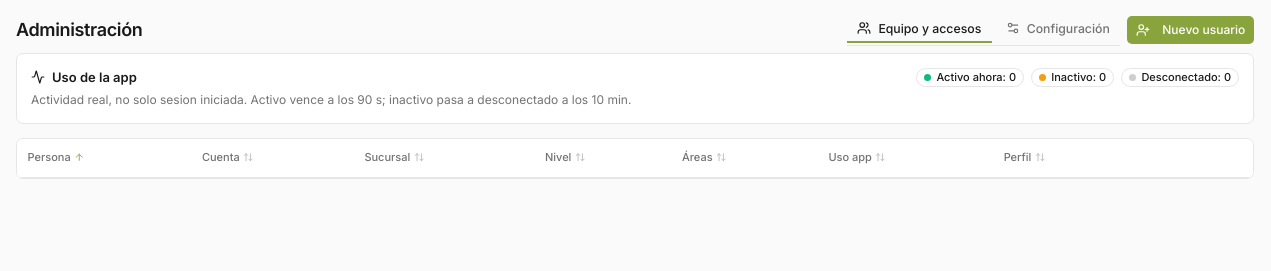
Scenario: Administración: alta de operativos sin acceso › does not fabricate a saved goal when it cannot be read, and supports retry
The image size is (1271, 271).
Press the mouse on the tab "Configuración" at (1058,29), box [995,15,1120,43]
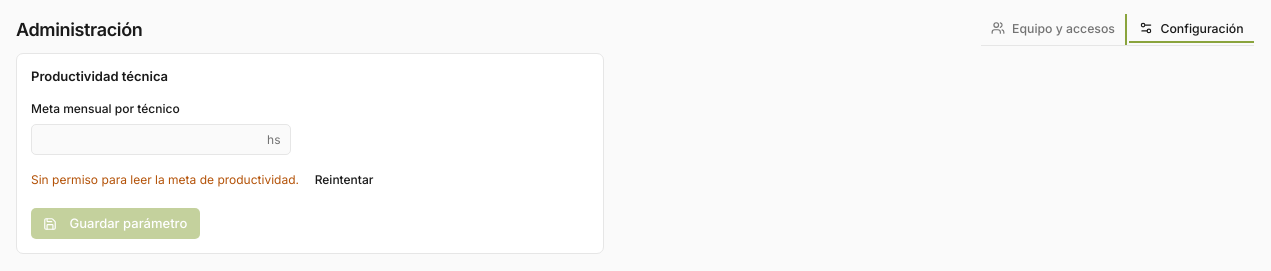
Result: the message shows "Sin permiso" at [31,172,299,187]
Result: the number field labelled "Meta mensual por técnico" is not empty at [31,124,291,155]
Result: the button "Guardar parámetro" is disabled at [31,208,200,239]
Click the button "Reintentar" at (344,180), box [306,166,382,194]
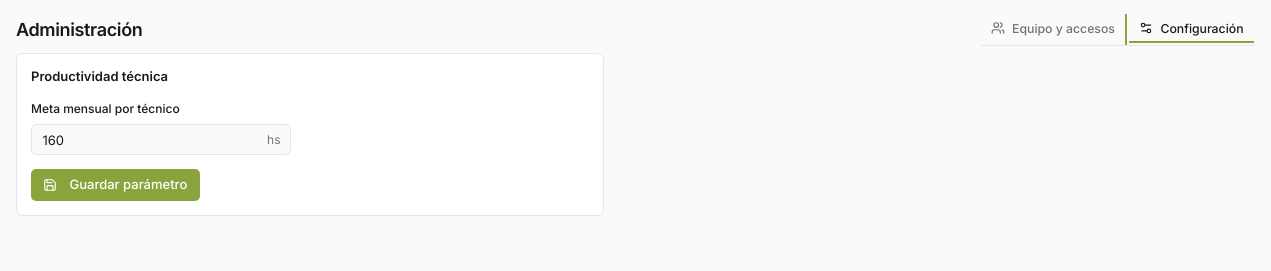
Result: the number field labelled "Meta mensual por técnico" holds "160" at [31,124,291,155]
Result: the message "Sin permiso para leer la meta de productividad." is gone
